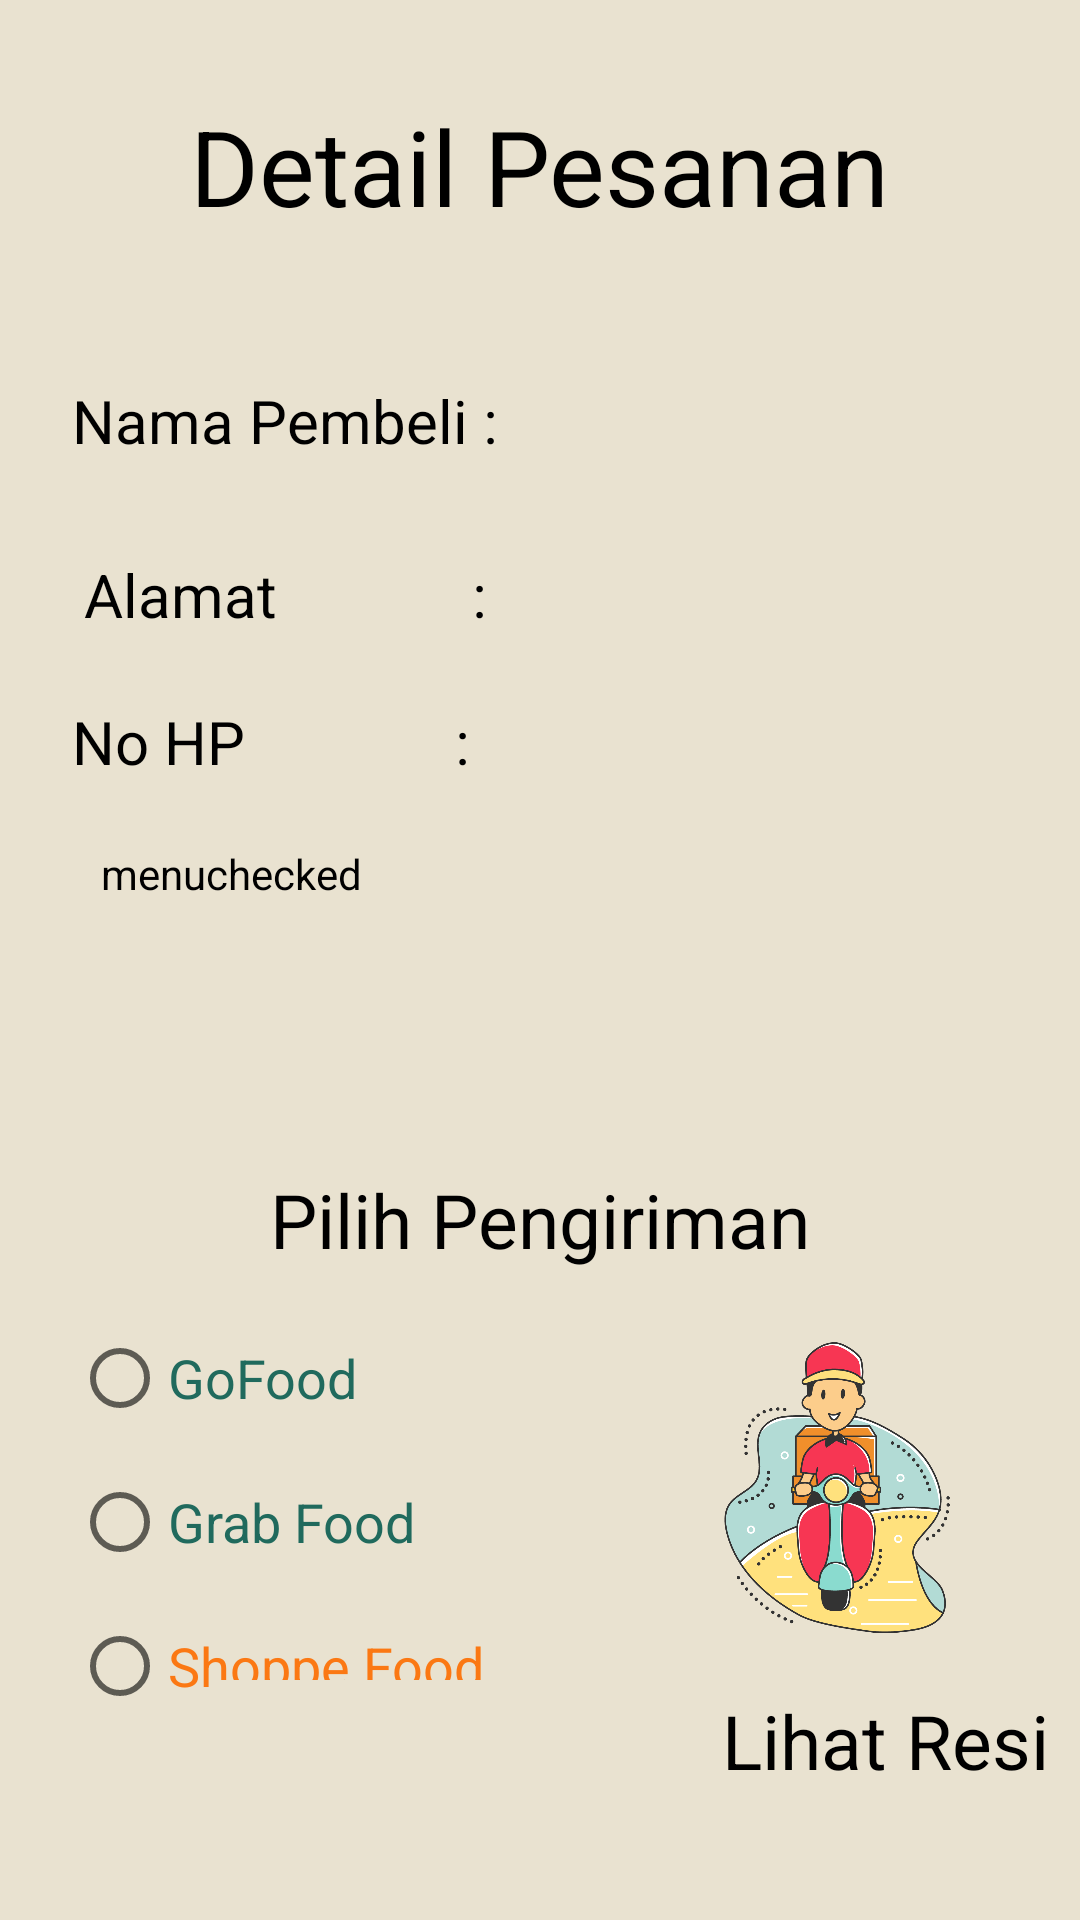

Named icons in this screenshot (1080px x 1920px) and their centers, point (x, y):
delivery: point (837, 1487)
